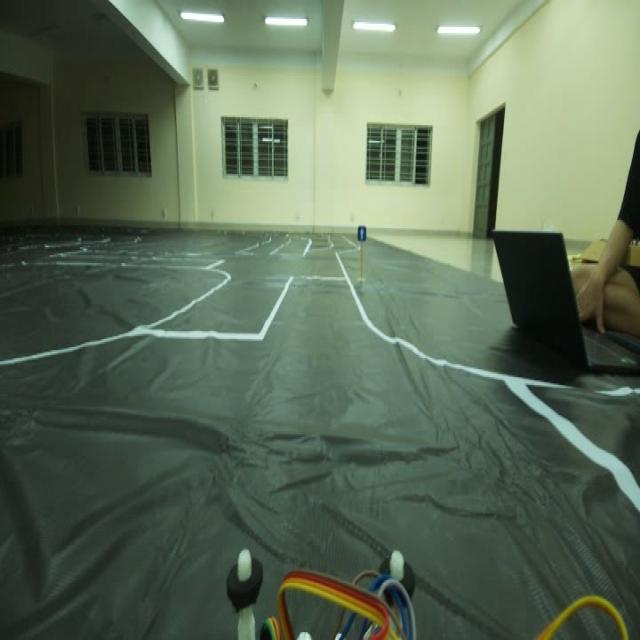onewayroad: (352, 217, 370, 255)
